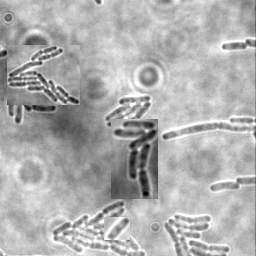Dividing: (161, 123, 255, 142), (221, 41, 248, 52)
Microcolony: (51, 200, 147, 255), (7, 45, 80, 105), (111, 119, 158, 199), (162, 212, 231, 255), (106, 96, 153, 132), (8, 106, 72, 126), (208, 182, 240, 193)
Rod: (104, 217, 130, 240)
